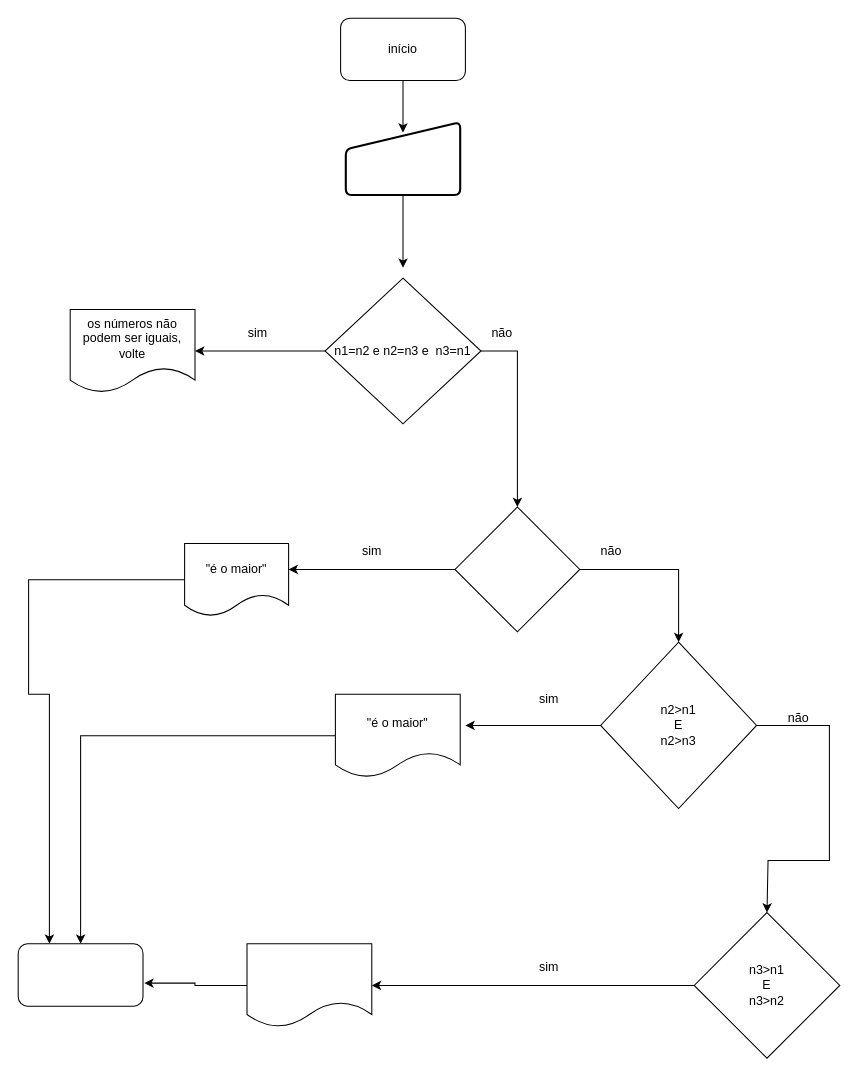
This 858x1076 diagram has some shape labels left out. The shapes that lost their labels are listed below. From the top down, each one's box as (x1, y1, x2, y2) in pixels, then its label:
(344, 121, 461, 196): n1,n2,n3
(454, 506, 580, 632): n1>n2 E n1>n3
(17, 943, 143, 1006): fim
(246, 943, 372, 1027): sim é o maior
